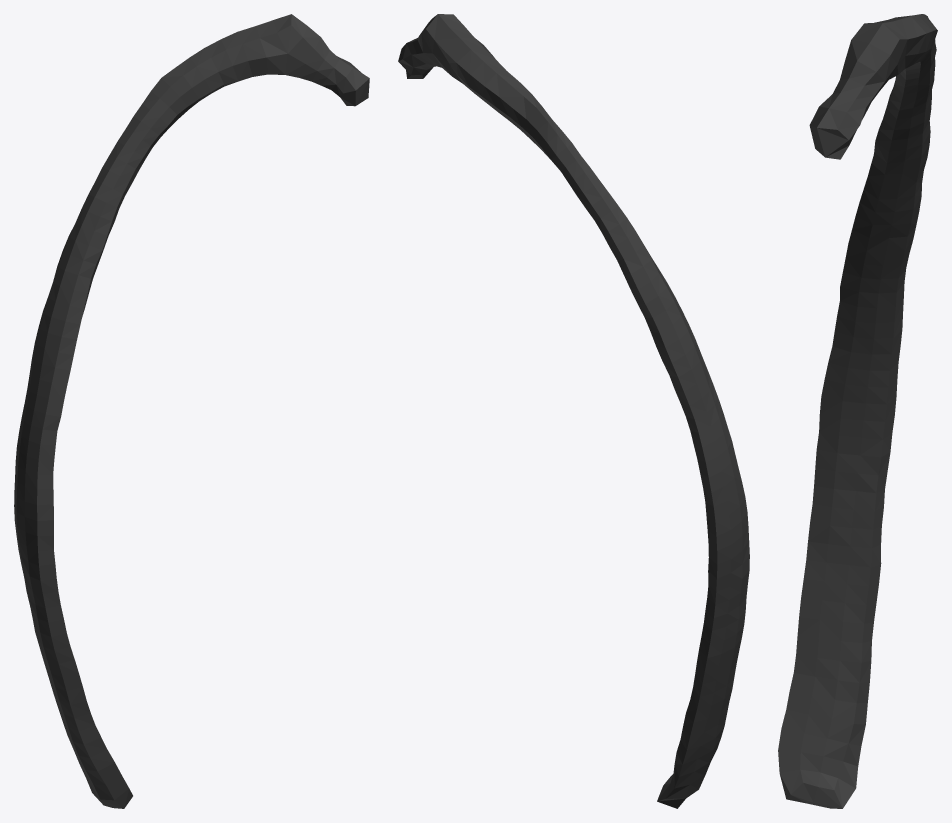
The model's file is Rib_5_R.glb.
3 views of the same model, side by side, from view 1: azimuth 30°, elevation 25°; view 2: azimuth 150°, elevation 25°; view 3: azimuth 270°, elevation 25° (orthographic). The views are drawn at different scales.
Parts seen in each view (by area): view 1: Rib_5_R; view 2: Rib_5_R; view 3: Rib_5_R.
Part boxes in pixels (x1,y1,x2,y2): Rib_5_R: (14, 14, 369, 808); Rib_5_R: (398, 14, 749, 808); Rib_5_R: (778, 14, 937, 808).
Bounding box in the file's own units: 3.96 × 8.24 × 1.31.
Materials: 1 (1 with a texture image).
